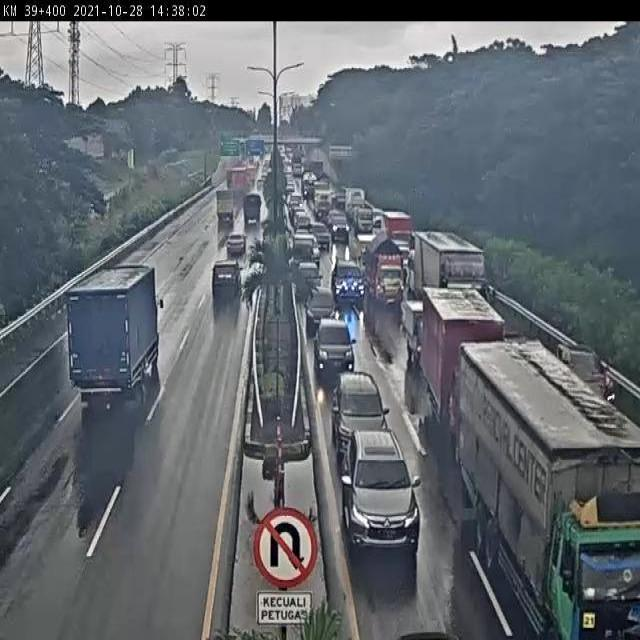ARABA: (336, 424, 419, 547), (330, 356, 389, 445), (530, 318, 594, 370), (314, 313, 356, 383), (325, 255, 370, 305), (304, 280, 338, 335), (207, 260, 245, 305), (296, 255, 331, 288), (291, 232, 319, 265), (226, 225, 247, 263)
KAMYONET: (399, 295, 434, 365)
TIR: (489, 376, 640, 640), (59, 244, 158, 403), (419, 282, 505, 422), (418, 230, 505, 326), (365, 240, 408, 303)
